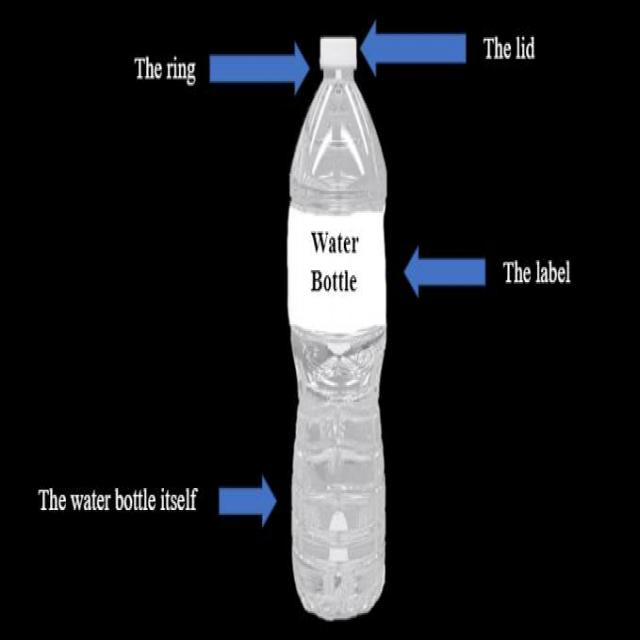bottle: (277, 37, 393, 616)
